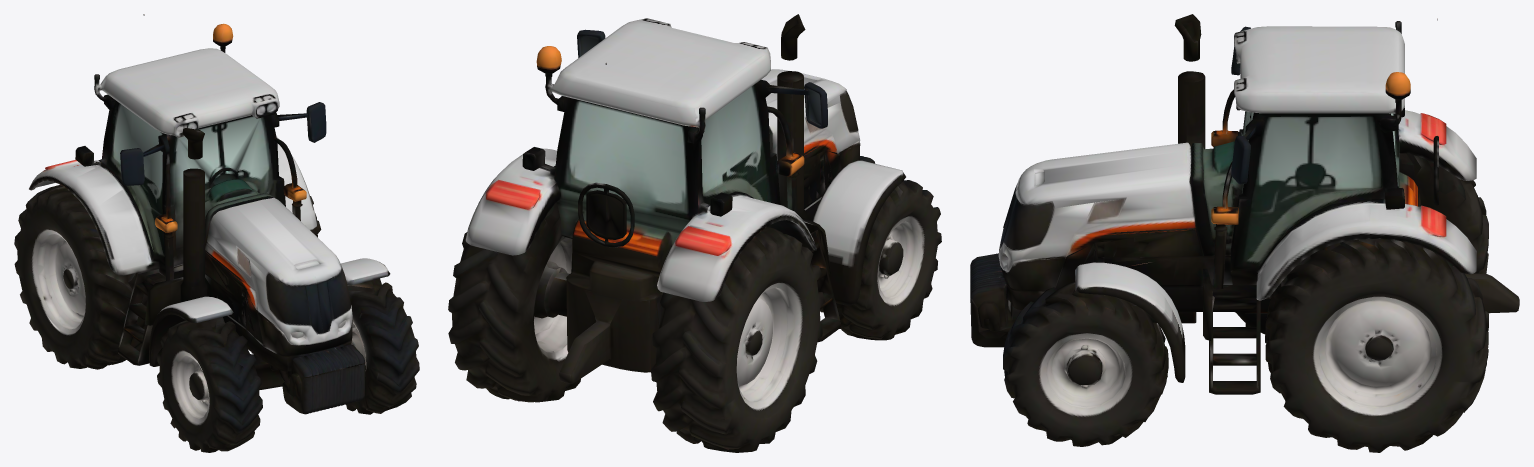
Rendered from Vehicles__a_tractor_58a807c5_v3.cluster.glb.
The picture shows the model from 3 angles, left to right: view 1: azimuth 30°, elevation 25°; view 2: azimuth 150°, elevation 25°; view 3: azimuth 270°, elevation 25°; orthographic projection. The views are drawn at different scales.
Parts seen in each view (by area): view 1: material; view 2: material; view 3: material.
Part boxes in pixels (x1=…): material: x1=14, y1=14, x2=419, y2=452; material: x1=448, y1=14, x2=941, y2=452; material: x1=970, y1=14, x2=1519, y2=452.
Bounding box in the file's own units: 1.1 × 1.43 × 1.9.
Materials: 1 (1 with a texture image).
